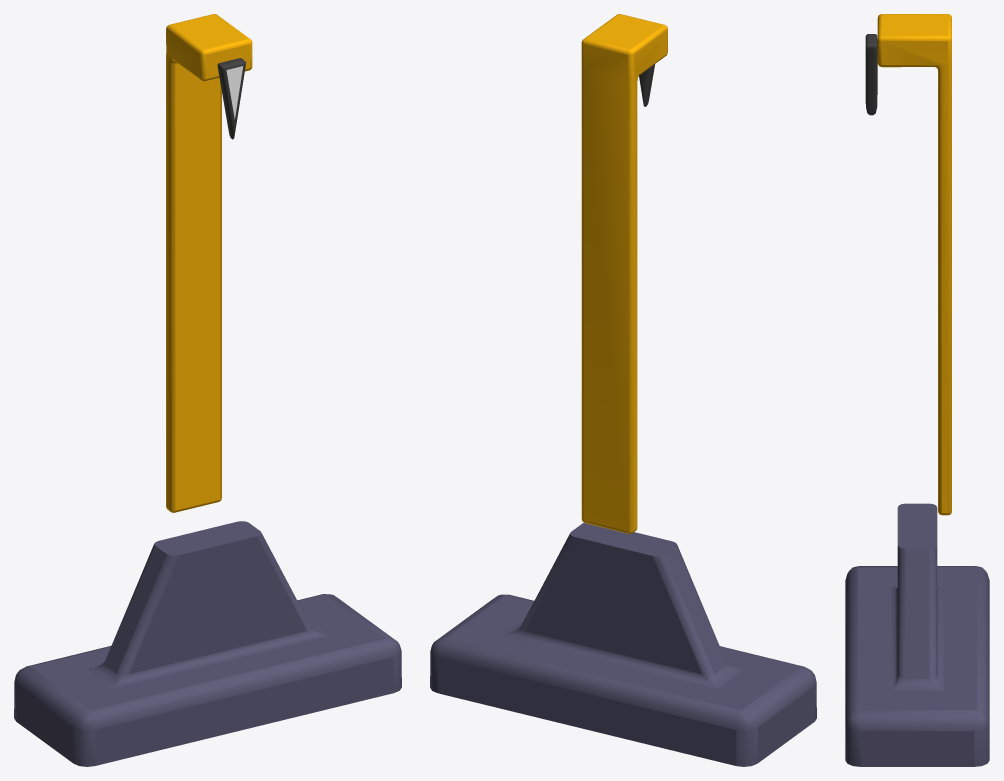
The picture shows the model from 3 angles, left to right: view 1: azimuth 30°, elevation 25°; view 2: azimuth 150°, elevation 25°; view 3: azimuth 270°, elevation 25°; orthographic projection.
Parts seen in each view (by area): view 1: base; view 2: base; view 3: base.
Part boxes in pixels (x1,y1,x2,y2): base: [14, 14, 401, 766]; base: [430, 14, 816, 766]; base: [845, 14, 989, 766].
Bounding box in the file's own units: 1.35 × 2.66 × 0.5245.
